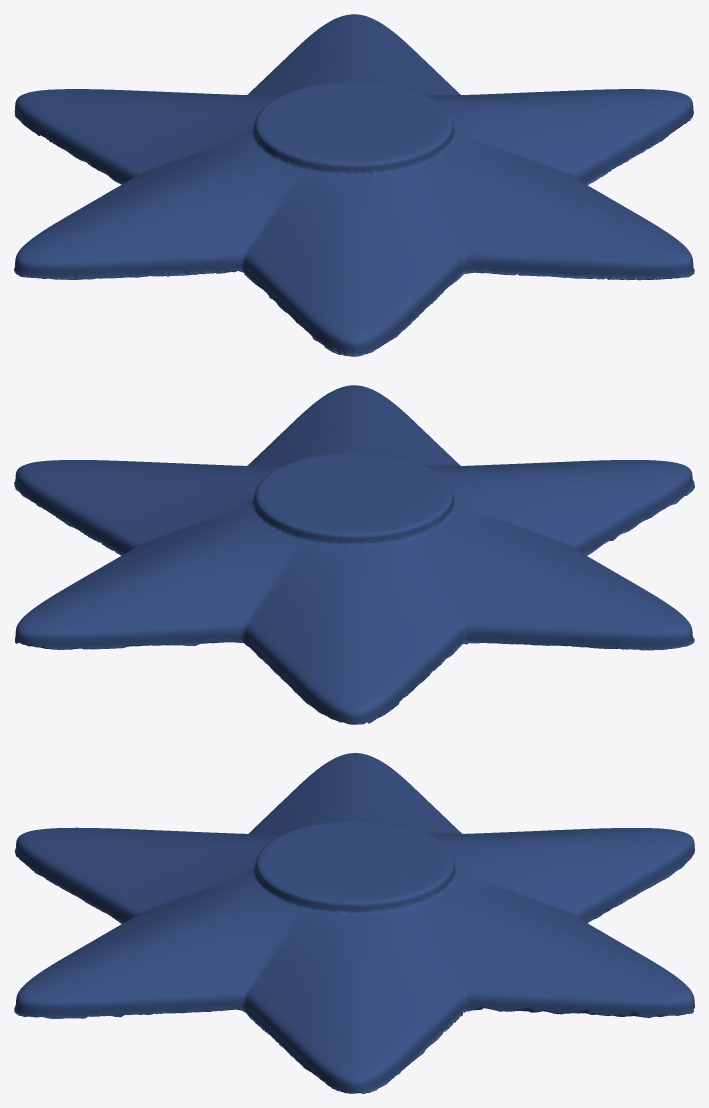
Rendered from decoration-star-draco.glb.
The picture shows the model from 3 angles, top to bottom: view 1: azimuth 30°, elevation 25°; view 2: azimuth 150°, elevation 25°; view 3: azimuth 270°, elevation 25°; orthographic projection.
Parts seen in each view (by area): view 1: decoration_star; view 2: decoration_star; view 3: decoration_star.
Part boxes in pixels (left/top/right/bottom): decoration_star: left=14, top=14, right=694, bottom=356; decoration_star: left=14, top=385, right=694, bottom=724; decoration_star: left=14, top=753, right=694, bottom=1093.
Size of the model in its own units: 0.2466 by 0.0247 by 0.215.
